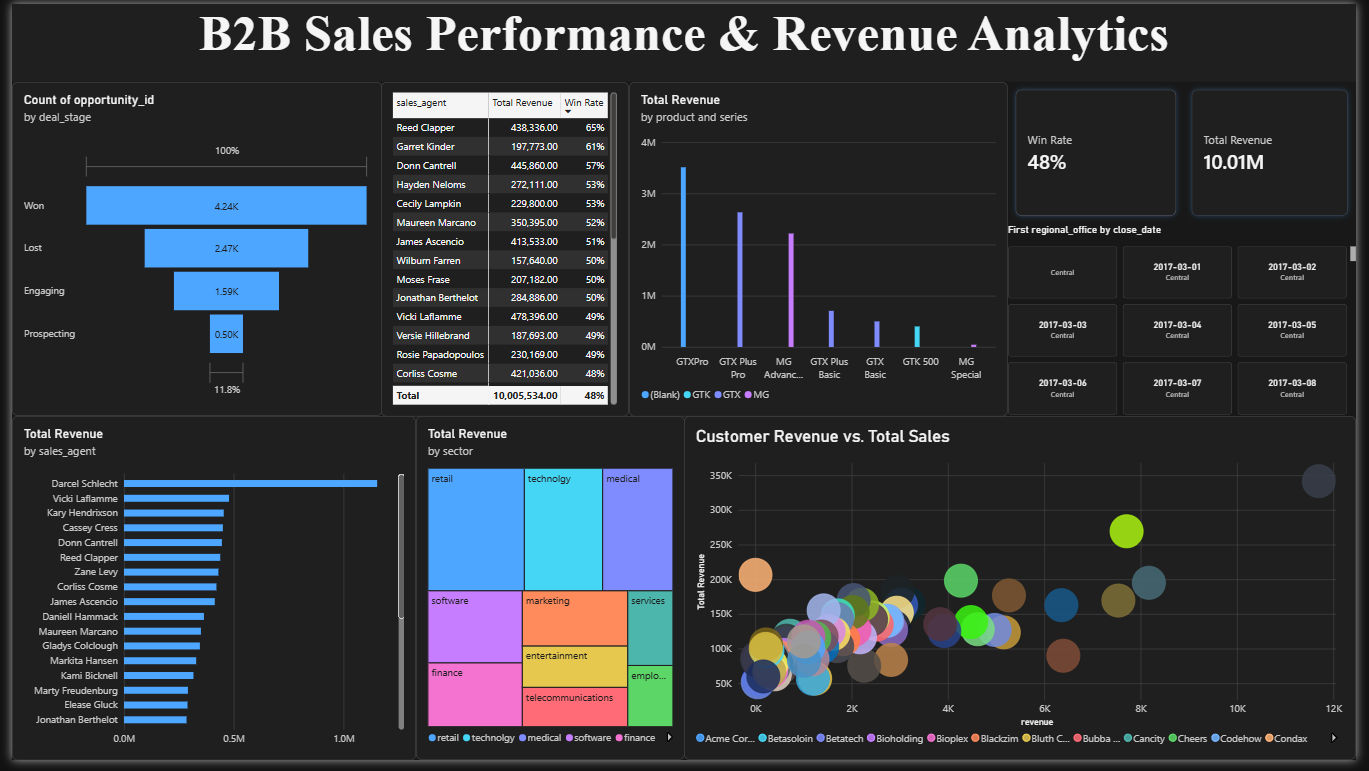

The page's visual inventory and layout, read from the dashboard file:
{"tool":"powerbi","page":{"name":"Page 1","canvas":[1920,1080],"ordinal":0},"visuals":[{"type":"funnel","fields":{"Category":["sales_pipeline.deal_stage"],"Y":["CountNonNull(sales_pipeline.opportunity_id)"]},"box":[0,111.4,528.6,477.1],"z":0},{"type":"pivotTable","fields":{"Rows":["sales_teams.sales_agent"],"Values":["sales_pipeline.Total Revenue","sales_pipeline.Win Rate"]},"box":[527.5,111.2,353.8,477.5],"z":1000},{"type":"clusteredBarChart","fields":{"Category":["sales_pipeline.sales_agent"],"Y":["sales_pipeline.Total Revenue"]},"box":[0,588,577.3,492],"z":2000},{"type":"treemap","fields":{"Group":["accounts.sector"],"Values":["sales_pipeline.Total Revenue"]},"box":[577.3,588,384,490.7],"z":3000},{"type":"scatterChart","title":"Customer Revenue vs. Total Sales","fields":{"Series":["accounts.account"],"Size":["CountNonNull(accounts.account)"],"X":["accounts.revenue"],"Y":["sales_pipeline.Total Revenue"]},"box":[960,588.6,960,491.4],"z":4000},{"type":"clusteredColumnChart","fields":{"Category":["sales_pipeline.product"],"Series":["products.series"],"Y":["sales_pipeline.Total Revenue"]},"box":[881.2,111.2,541.2,477.5],"z":5000},{"type":"cardVisual","fields":{"Data":["sales_pipeline.Win Rate"]},"box":[1422.9,111.4,251.4,202.9],"z":6000},{"type":"cardVisual","title":"Total Revenue","fields":{"Data":["sales_pipeline.Total Revenue"]},"box":[1674.3,111.4,245.7,202.9],"z":7000},{"type":"advancedSlicerVisual","fields":{"Label":["Min(sales_teams.regional_office)"],"Values":["sales_pipeline.close_date"]},"box":[1422.9,314.3,497.1,274.3],"z":7001},{"type":"textbox","box":[0,0,1920,111.4],"z":7002}]}

Visuals, with their boxes in screenshot pixels (x1, y1, x2, y2), scaled from the page's 1920x1080 canvas onto the 1369x771 screenshot:
funnel - sales_pipeline.deal_stage x CountNonNull(sales_pipeline.opportunity_id): bbox(0, 80, 377, 420)
pivotTable - sales_teams.sales_agent x sales_pipeline.Total Revenue: bbox(376, 79, 628, 420)
clusteredBarChart - sales_pipeline.sales_agent x sales_pipeline.Total Revenue: bbox(0, 420, 412, 770)
treemap - accounts.sector x sales_pipeline.Total Revenue: bbox(412, 420, 685, 770)
"Customer Revenue vs. Total Sales" scatterChart: bbox(684, 420, 1368, 770)
clusteredColumnChart - sales_pipeline.product x products.series: bbox(628, 79, 1014, 420)
cardVisual - sales_pipeline.Win Rate: bbox(1015, 80, 1194, 224)
"Total Revenue" cardVisual: bbox(1194, 80, 1368, 224)
advancedSlicerVisual - Min(sales_teams.regional_office) x sales_pipeline.close_date: bbox(1015, 224, 1368, 420)
textbox: bbox(0, 0, 1368, 80)
